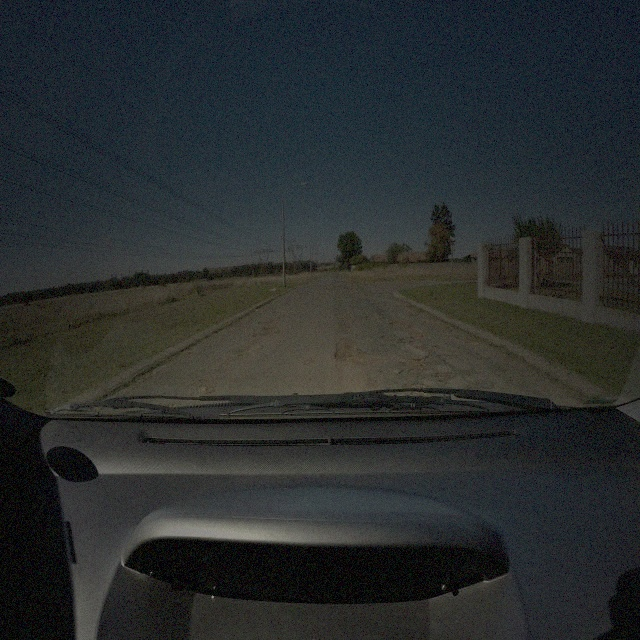pothole: (333, 336, 370, 366), (393, 315, 430, 343), (404, 354, 430, 372), (410, 378, 430, 396), (234, 343, 260, 356), (436, 376, 450, 389), (262, 328, 282, 336), (259, 318, 280, 325), (335, 312, 349, 320), (366, 314, 376, 324), (338, 325, 349, 331), (379, 335, 388, 342)
